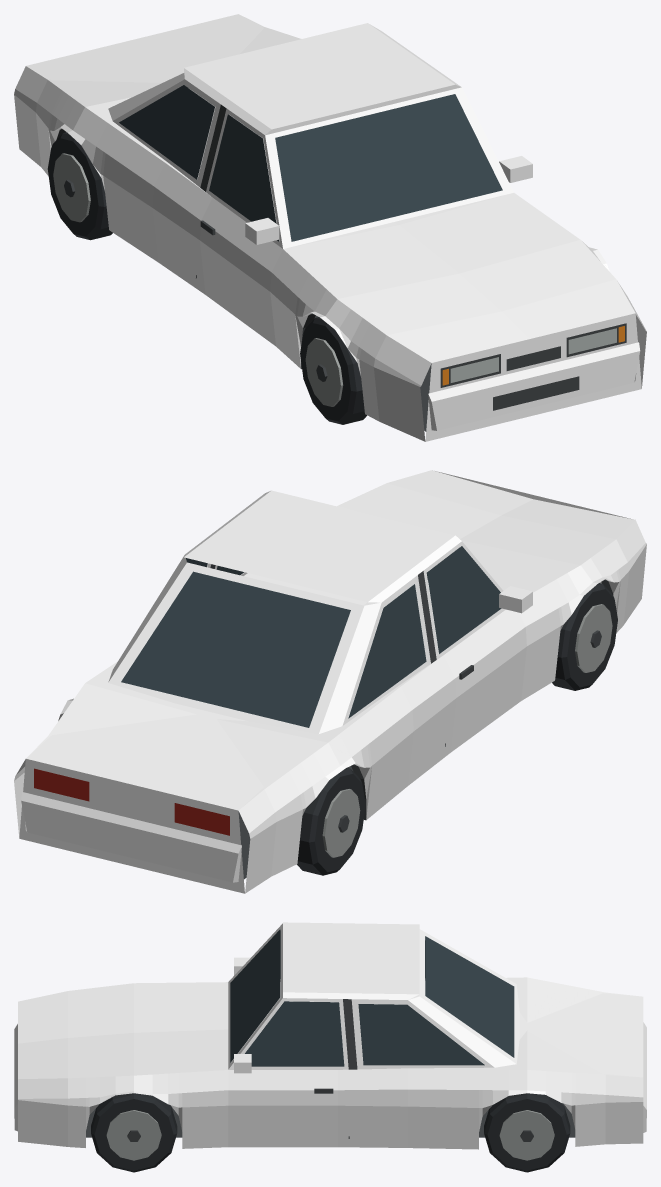
File: hozuki_rindo_s.glb
3 views of the same model, one above another, from view 1: azimuth 30°, elevation 25°; view 2: azimuth 150°, elevation 25°; view 3: azimuth 270°, elevation 25° (orthographic). The views are drawn at different scales.
Visible parts, largest first — view 1: hozuki_rindo_s; view 2: hozuki_rindo_s; view 3: hozuki_rindo_s.
Boxes of the visible parts, left/top/right/bottom form: hozuki_rindo_s: left=14, top=14, right=646, bottom=441; hozuki_rindo_s: left=14, top=470, right=646, bottom=893; hozuki_rindo_s: left=14, top=922, right=646, bottom=1172.
Bounding box in the file's own units: 1.71 × 1.25 × 4.33.
8 materials, 1 textured.
